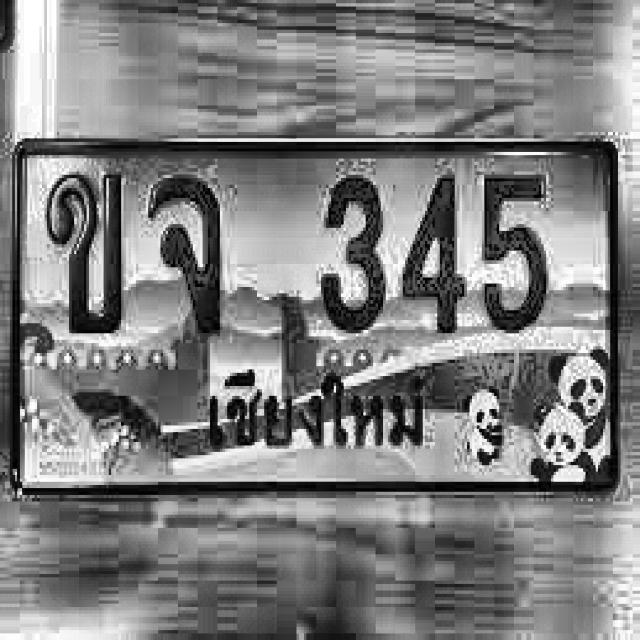license-plate: (4, 116, 630, 505)
